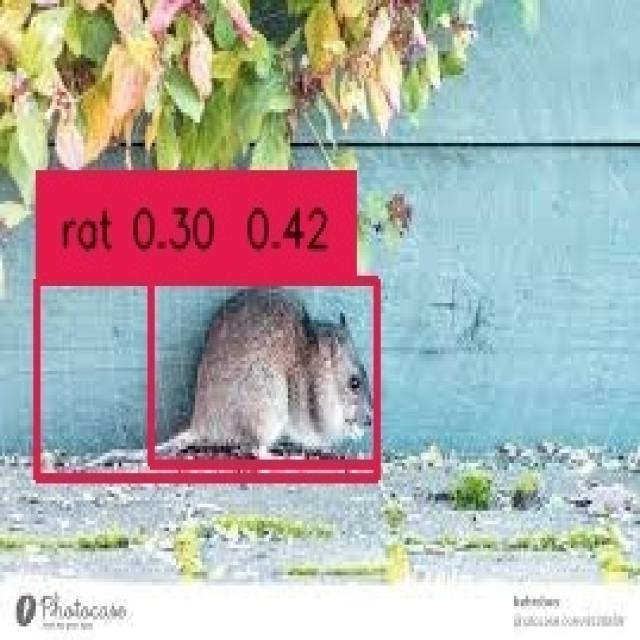rat: (34, 276, 374, 473), (148, 276, 374, 460)
